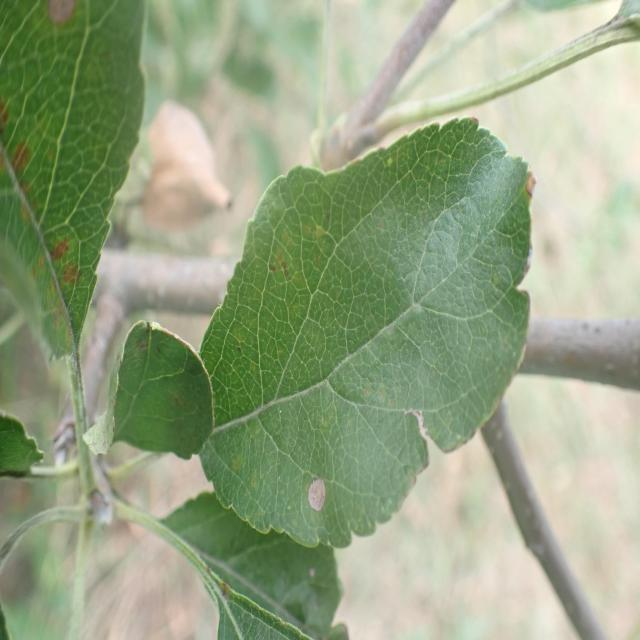frog-eye-leaf-spot: (197, 115, 537, 550), (0, 0, 147, 363)
